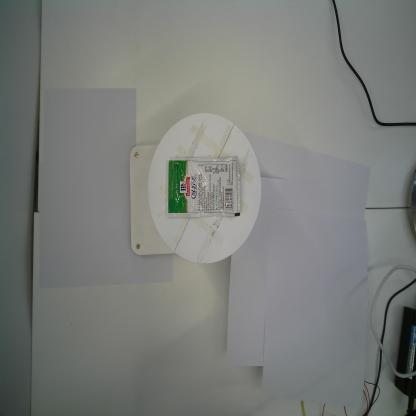Seasoner: (165, 156, 241, 218)
